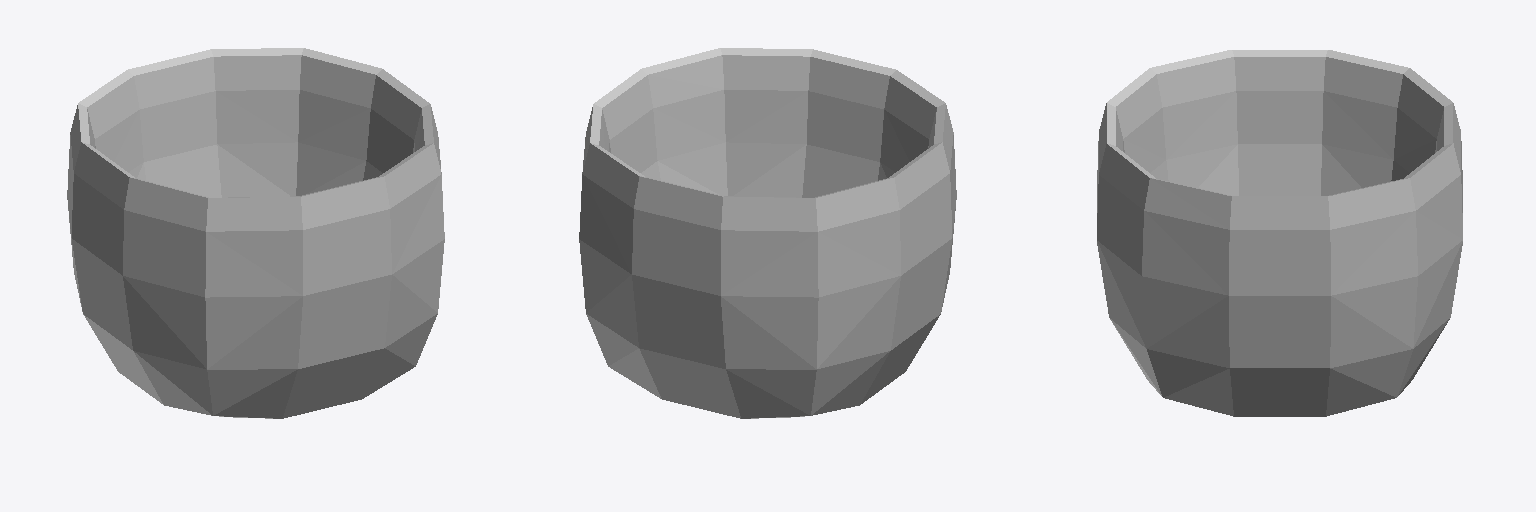
Rendered from static_bowl.obj.
3 views of the same model, side by side, from view 1: azimuth 30°, elevation 25°; view 2: azimuth 150°, elevation 25°; view 3: azimuth 270°, elevation 25° (orthographic).
Parts seen in each view (by area): view 1: static_bowl.obj; view 2: static_bowl.obj; view 3: static_bowl.obj.
Part boxes in pixels (bbox=[...]): static_bowl.obj: bbox=[67, 48, 444, 418]; static_bowl.obj: bbox=[579, 48, 956, 418]; static_bowl.obj: bbox=[1097, 50, 1462, 416].
Bounding box in the file's own units: 2 × 1.6 × 2.